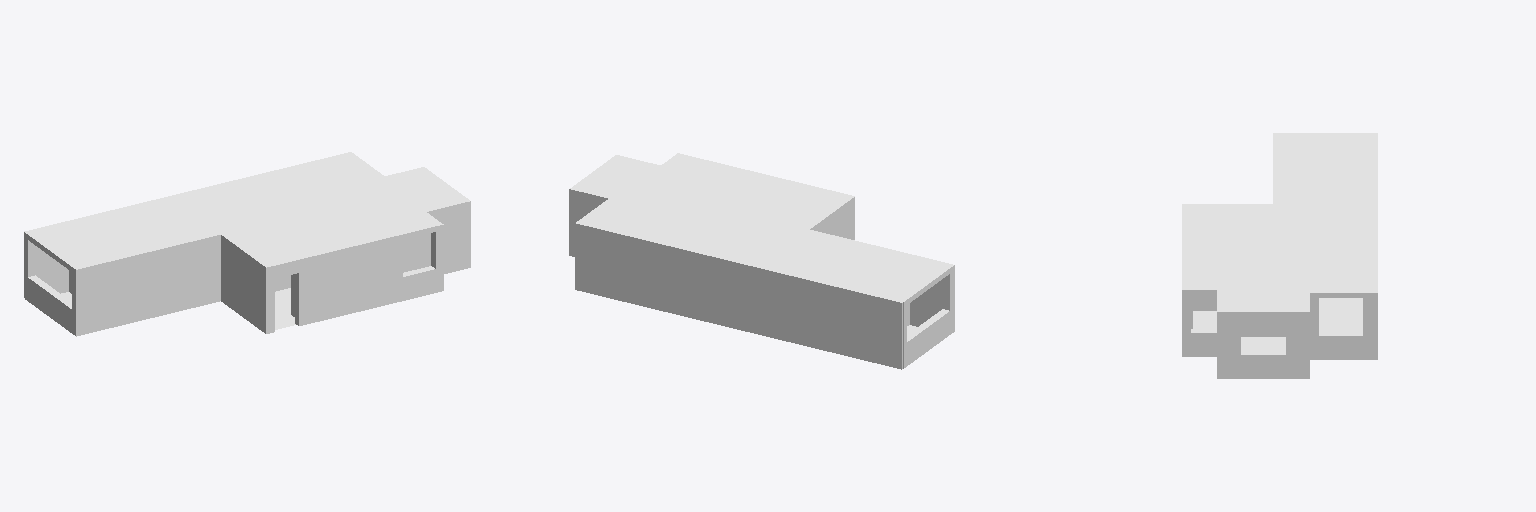
File: render.obj
3 renders of one model, left to right at view 1: azimuth 30°, elevation 25°; view 2: azimuth 150°, elevation 25°; view 3: azimuth 270°, elevation 25°, orthographic.
Visible parts, largest first — view 1: room_7_218, wall_11_62, room_2_208, wall_26_152, room_8_220, wall_15_86, wall_12_68, wall_21_122, wall_6_32, wall_4_20, wall_25_146, room_5_214 (+6 smaller); view 2: wall_10_56, room_7_218, wall_14_80, room_2_208, wall_13_74, room_8_220, wall_6_32, room_5_214, room_1_206, room_3_210, room_4_212, wall_15_86 (+2 smaller); view 3: room_7_218, wall_3_14, room_2_208, wall_1_2, room_8_220, room_5_214, room_7_217, room_1_206, wall_5_26, room_3_210, room_4_212, room_8_219 (+1 smaller).
Boxes of the visible parts, x1,y1,x2,y2 form: room_7_218: [181, 157, 377, 233]; wall_11_62: [119, 235, 220, 325]; room_2_208: [75, 199, 220, 254]; wall_26_152: [346, 236, 398, 314]; room_8_220: [343, 172, 458, 218]; wall_15_86: [223, 236, 265, 333]; wall_12_68: [76, 260, 118, 336]; wall_21_122: [306, 248, 345, 324]; wall_6_32: [25, 233, 75, 335]; wall_4_20: [427, 201, 470, 273]; wall_25_146: [399, 225, 443, 301]; room_5_214: [308, 205, 393, 243]; wall_10_56: [575, 223, 752, 332]; room_7_218: [588, 197, 802, 262]; wall_14_80: [753, 267, 858, 358]; room_2_208: [760, 232, 903, 288]; wall_13_74: [859, 293, 902, 369]; room_8_220: [582, 160, 696, 206]; wall_6_32: [903, 265, 954, 368]; room_5_214: [684, 168, 767, 205]; room_1_206: [867, 258, 941, 297]; room_3_210: [737, 181, 809, 216]; room_4_212: [776, 190, 842, 224]; wall_15_86: [812, 197, 854, 239]; room_7_218: [1269, 208, 1368, 288]; wall_3_14: [1217, 312, 1309, 378]; room_2_208: [1282, 154, 1368, 205]; wall_1_2: [1307, 291, 1377, 359]; room_8_220: [1225, 270, 1301, 307]; room_5_214: [1191, 244, 1268, 268]; room_7_217: [1319, 298, 1362, 331]; room_1_206: [1282, 137, 1368, 153]; wall_5_26: [1182, 290, 1216, 356]; room_3_210: [1191, 223, 1265, 241]; room_4_212: [1187, 208, 1268, 222]; room_8_219: [1241, 337, 1285, 350].
Size of the model in its own units: 1438 by 250 by 663.